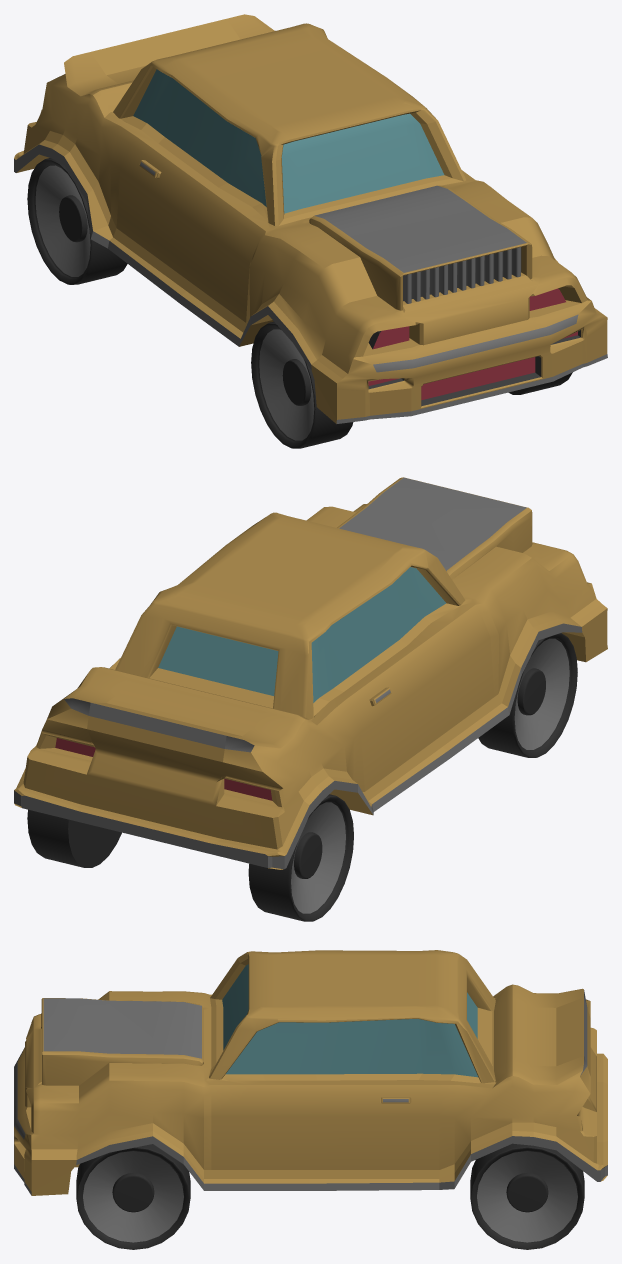
File: Car_01_Killian.fbx
3 renders of one model, top to bottom at view 1: azimuth 30°, elevation 25°; view 2: azimuth 150°, elevation 25°; view 3: azimuth 270°, elevation 25°, orthographic. The views are drawn at different scales.
Parts seen in each view (by area): view 1: Car_01_Carrosserie, Car_01_Pneu_Arrière_Droit, Car_01_Pneu_Avant_Droit; view 2: Car_01_Carrosserie, Car_01_Pneu_Arrière_Droit, Car_01_Pneu_Avant_Droit, Car_01_Pneu_Arrière_Gauche; view 3: Car_01_Carrosserie, Car_01_Pneu_Arrière_Gauche, Car_01_Pneu_Avant_Gauche.
Boxes of the visible parts, left/top/right/bottom form: Car_01_Carrosserie: left=14, top=14, right=607, bottom=423; Car_01_Pneu_Arrière_Droit: left=27, top=158, right=127, bottom=284; Car_01_Pneu_Avant_Droit: left=251, top=321, right=353, bottom=448; Car_01_Carrosserie: left=14, top=477, right=607, bottom=869; Car_01_Pneu_Arrière_Droit: left=248, top=794, right=353, bottom=921; Car_01_Pneu_Avant_Droit: left=478, top=633, right=577, bottom=757; Car_01_Pneu_Arrière_Gauche: left=27, top=809, right=121, bottom=867; Car_01_Carrosserie: left=14, top=950, right=607, bottom=1195; Car_01_Pneu_Arrière_Gauche: left=470, top=1143, right=584, bottom=1249; Car_01_Pneu_Avant_Gauche: left=76, top=1144, right=190, bottom=1249.
Bounding box in the file's own units: 1.07 × 0.8748 × 2.2.
